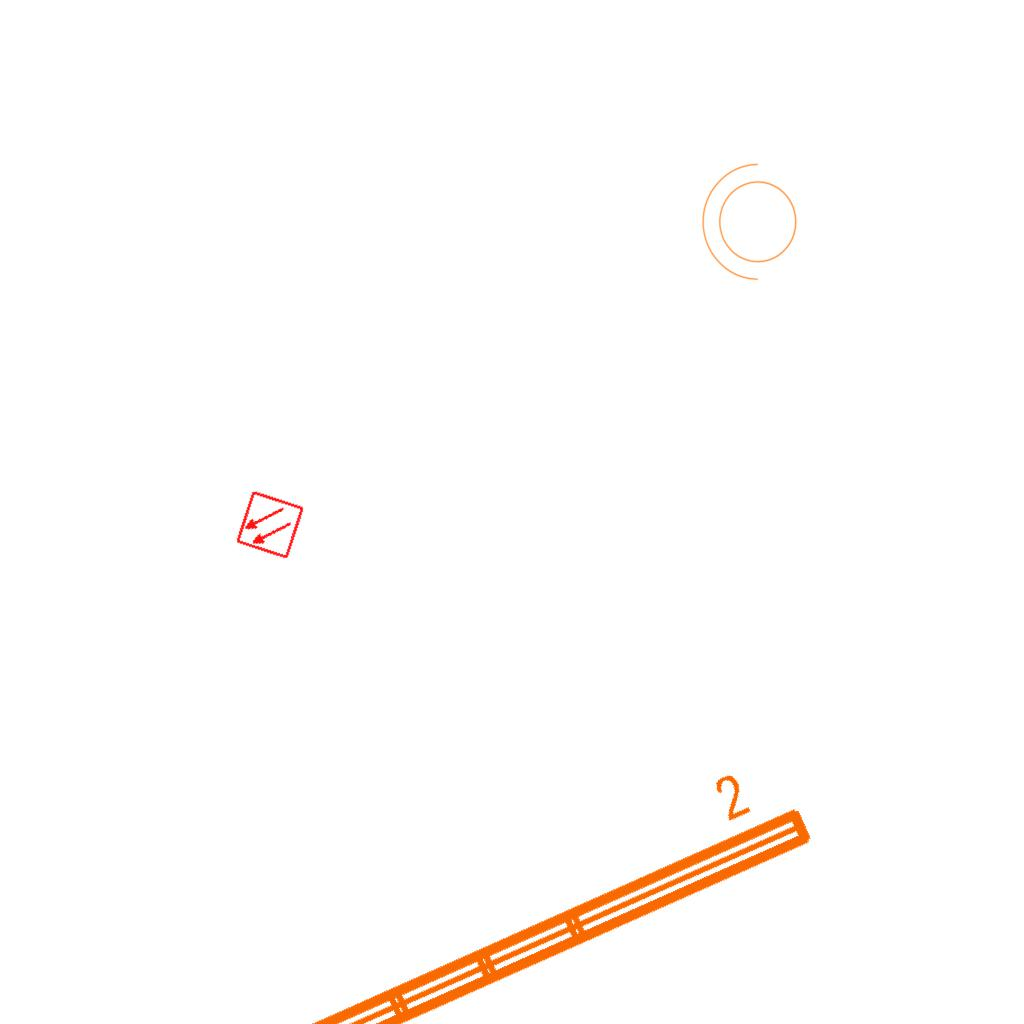Ambulanz_Pendelleuchte_LED: (72, 746, 826, 1024)
RMO_Rauchmelder_optischer: (234, 489, 306, 561)
Scheinwerfer_fuer_Alarmbeleuchtung: (697, 159, 809, 291)
